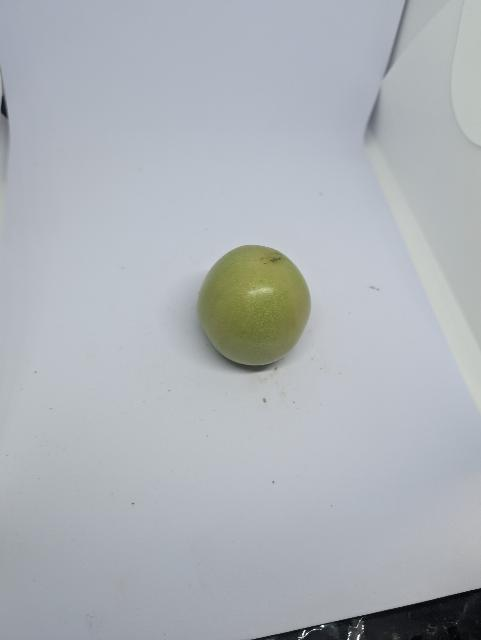green: (195, 241, 315, 368)
